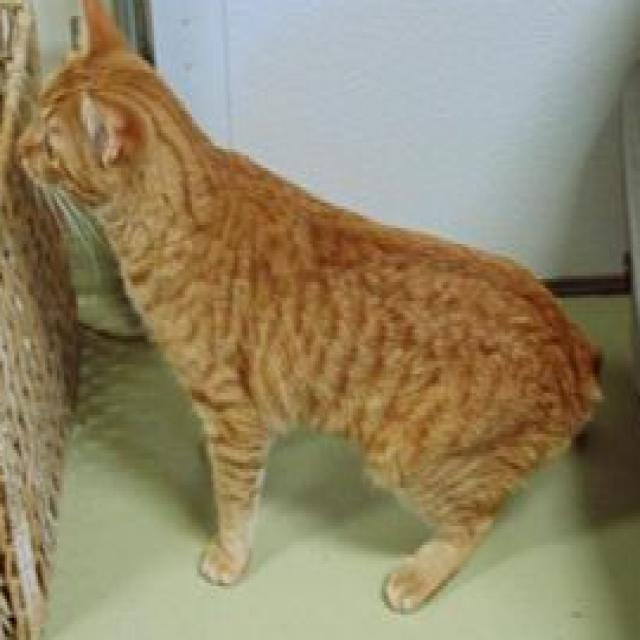American Bobtail: (12, 0, 609, 624)
